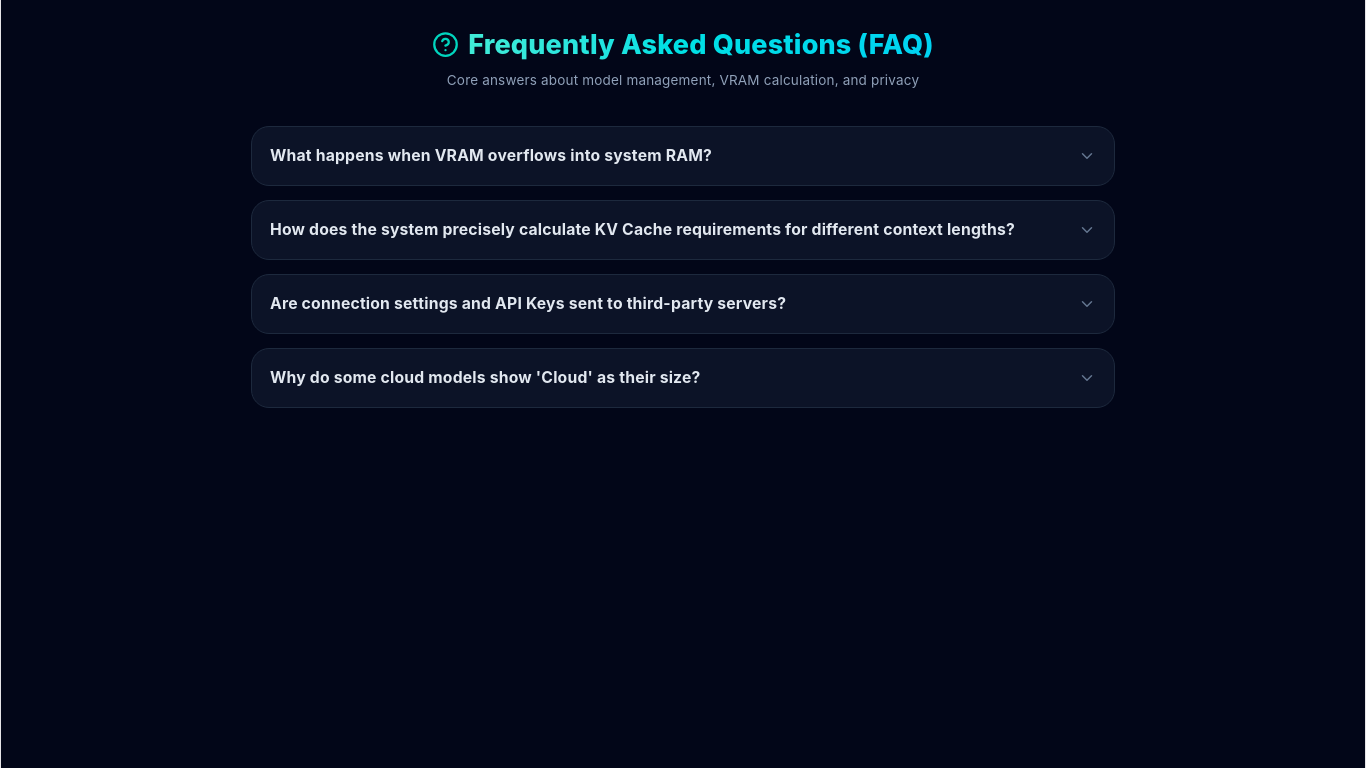
FaqSection — accordion a11y › animates aria-expanded from false → true when opened
This screenshot has width=1366, height=768.
Click the button "What happens when VRAM overflows into system RAM?".
click(683, 156)  # box [252,127,1114,186]
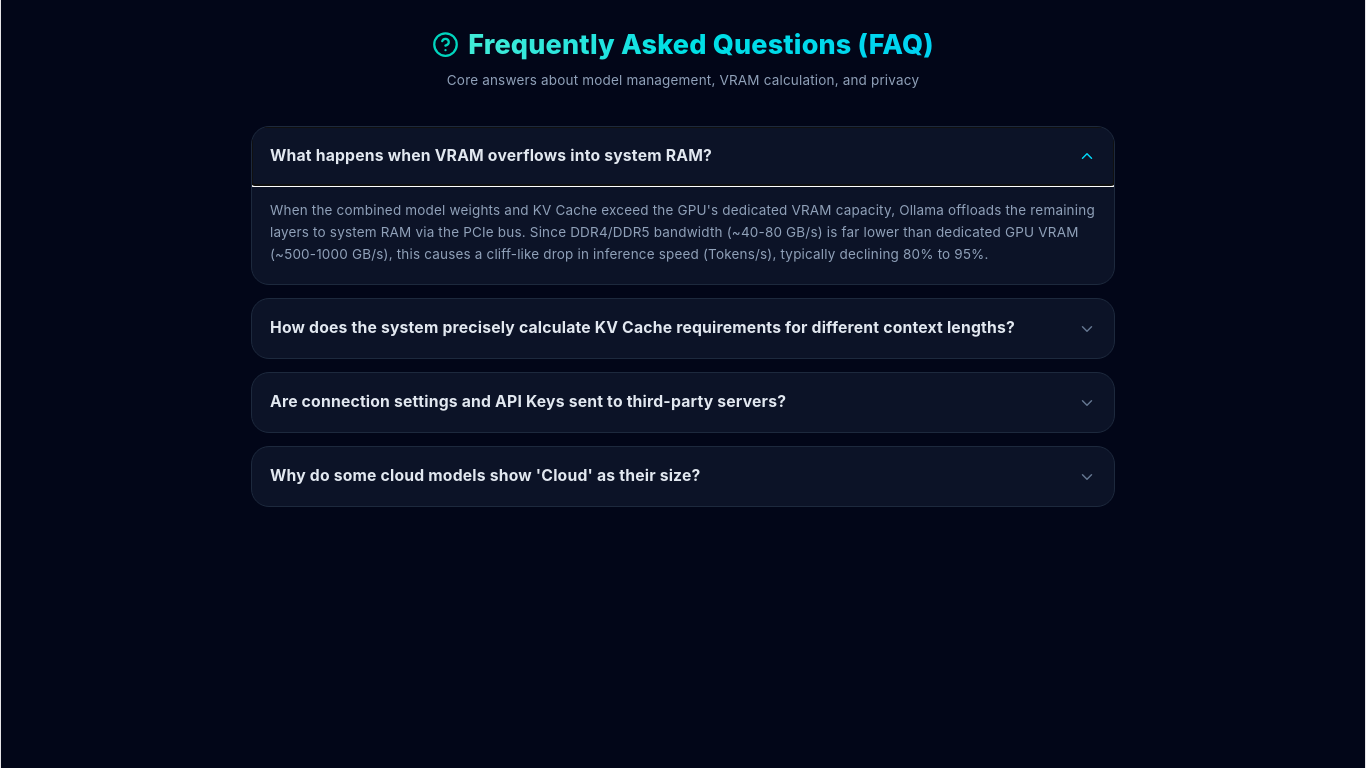
Expected: the button "What happens when VRAM overflows into system RAM?" is expanded, [252,127,1114,186]
